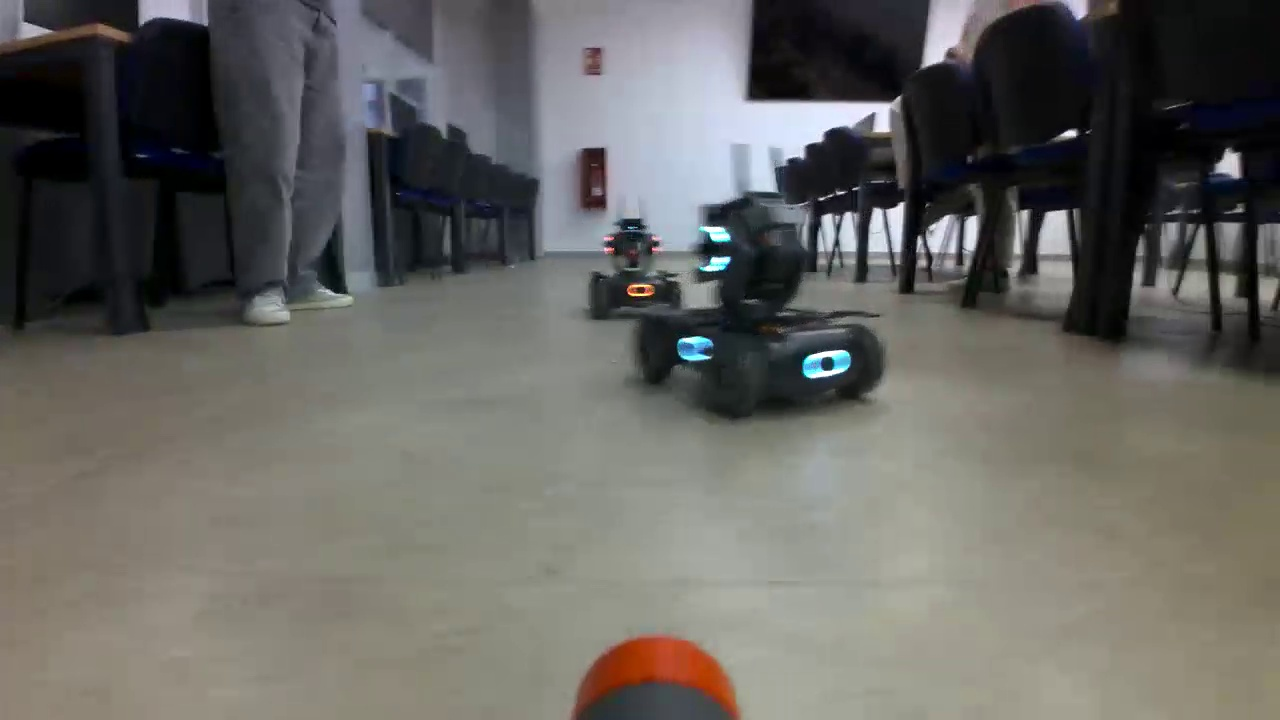robot: (636, 189, 886, 419), (588, 217, 683, 317)
